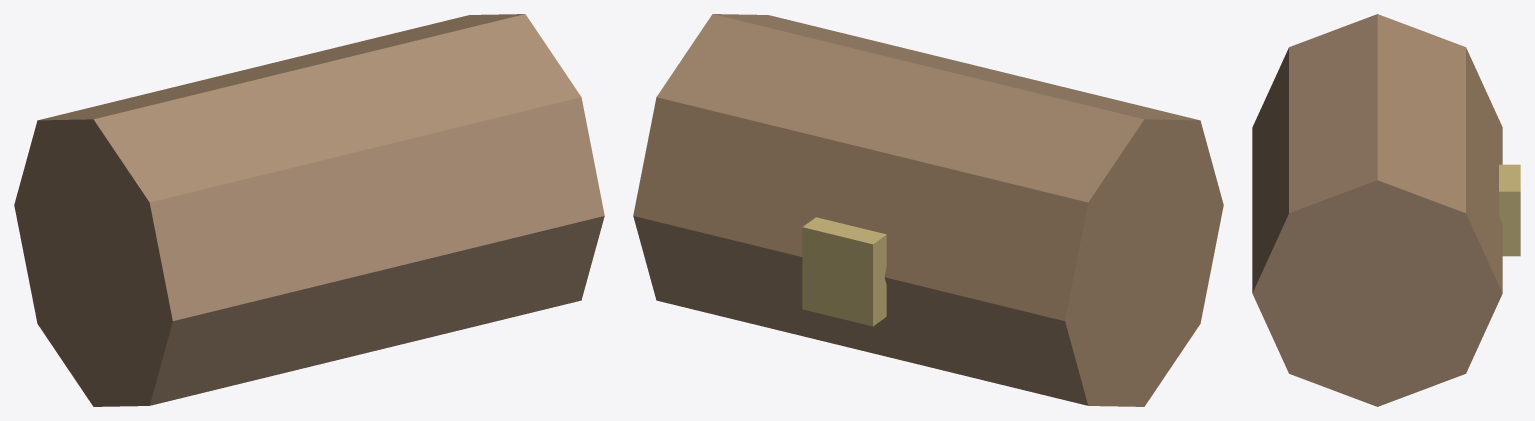
File: chest_lid.glb
3 renders of one model, left to right at view 1: azimuth 30°, elevation 25°; view 2: azimuth 150°, elevation 25°; view 3: azimuth 270°, elevation 25°, orthographic. The views are drawn at different scales.
Visible parts, largest first — view 1: chest_lid2; view 2: chest_lid2; view 3: chest_lid2.
Part boxes in pixels (<box>): chest_lid2: <box>14,14,604,406</box>; chest_lid2: <box>633,14,1223,406</box>; chest_lid2: <box>1252,14,1520,406</box>.
Bounding box in the file's own units: 1.1 × 0.7 × 0.75.
